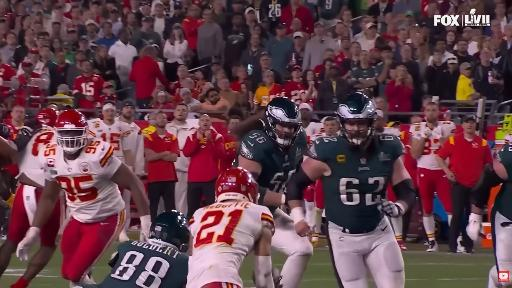Helmet: (337, 92, 377, 145), (263, 98, 301, 146), (150, 210, 189, 251), (215, 167, 258, 202), (55, 110, 88, 153), (36, 108, 58, 128)
Jersey: (309, 134, 403, 233), (187, 202, 274, 287), (39, 139, 124, 222), (234, 130, 307, 193), (99, 241, 188, 287), (19, 130, 55, 186), (88, 119, 131, 162), (417, 121, 455, 169), (493, 143, 511, 219)
Player: (287, 93, 415, 287), (17, 110, 150, 284), (234, 98, 313, 287), (187, 168, 274, 287), (0, 109, 57, 275), (77, 211, 189, 287), (410, 103, 455, 251), (467, 144, 511, 287), (88, 102, 136, 169), (88, 102, 133, 167), (376, 109, 401, 138)
